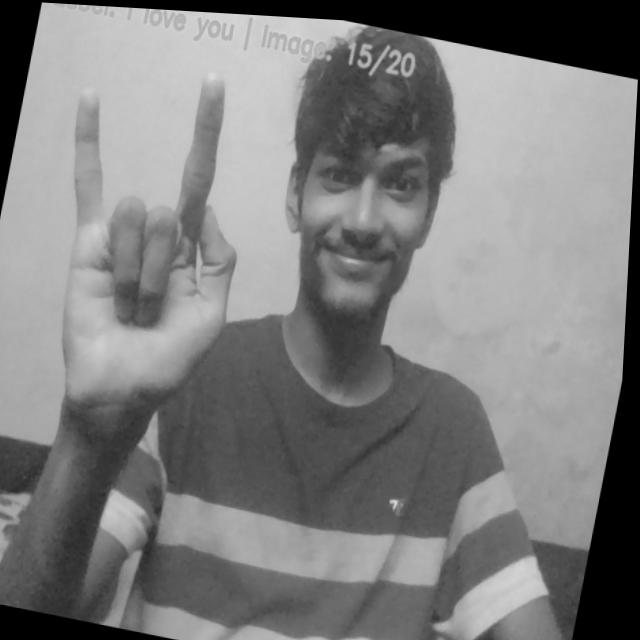I love you: (24, 40, 276, 419)
